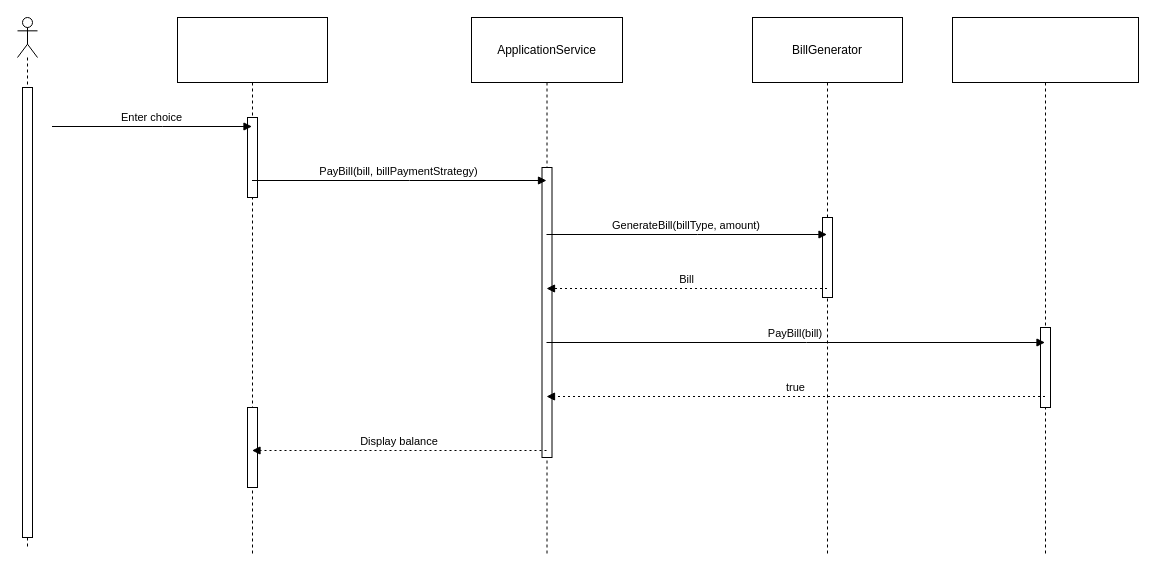
The diagram is 1156 pixels wide and 573 high, and some of its shapes have lost their labels. The shapes that lost their labels are listed below. From the top down, each one's box as (x1, y1, x2, y2) in pixels, then its label:
(176, 16, 328, 556): Console
(952, 16, 1138, 556): GasBillPaymentStrategy
